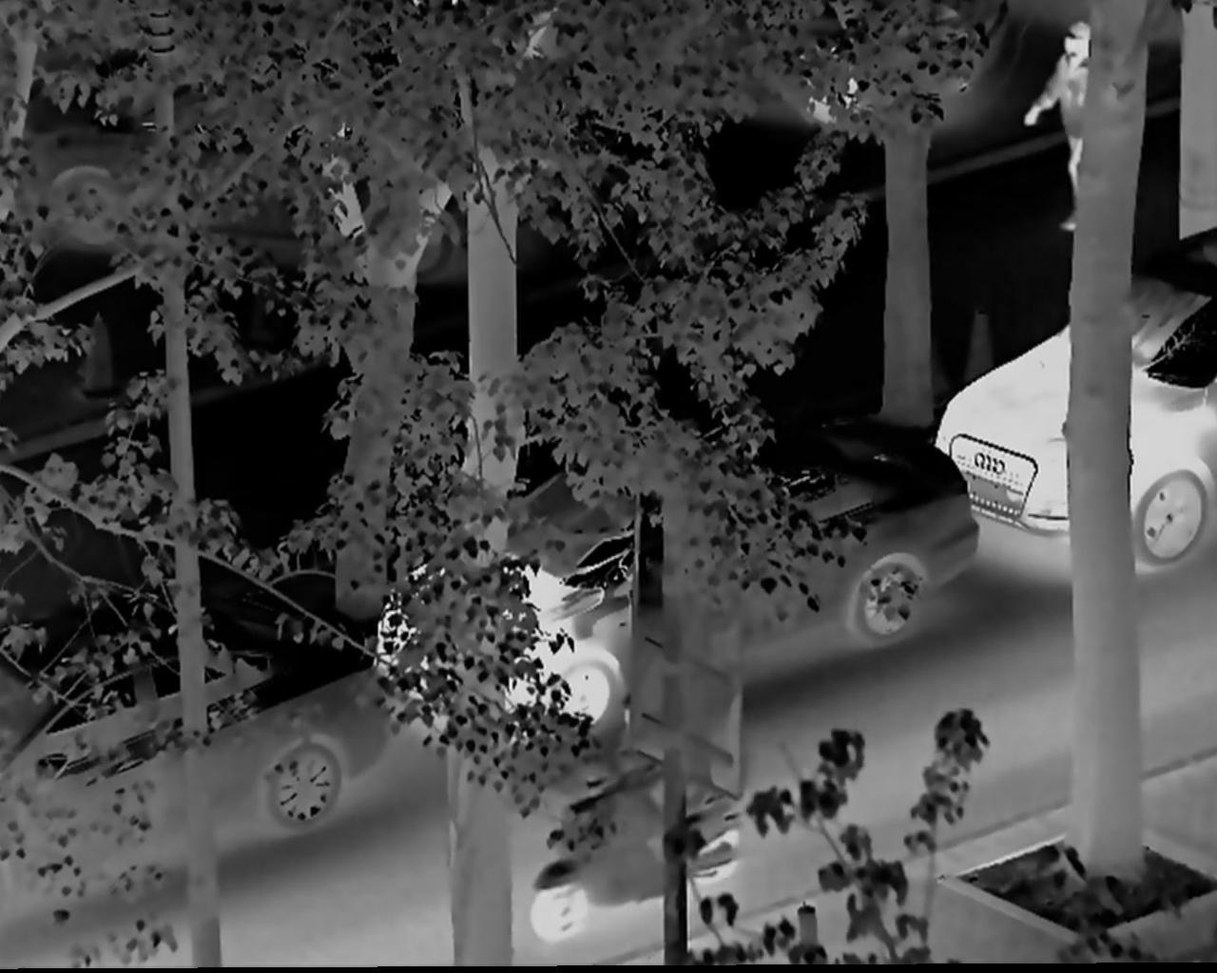person: (1018, 12, 1101, 230)
